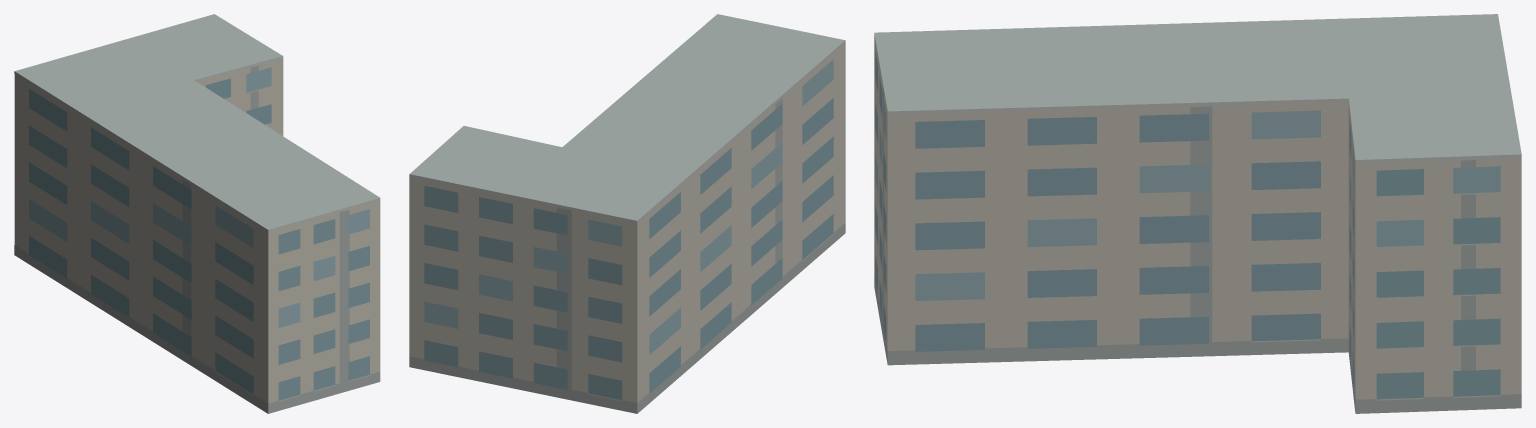
Rendered from residential-43f210d5-421a-40e4-ac34-83a5812caf22.glb.
The picture shows the model from 3 angles, left to right: view 1: azimuth 30°, elevation 25°; view 2: azimuth 150°, elevation 25°; view 3: azimuth 270°, elevation 25°; orthographic projection. The views are drawn at different scales.
Parts seen in each view (by area): view 1: residential-43f210d5-421a-40e4-ac34-83a5812caf22.tmp; view 2: residential-43f210d5-421a-40e4-ac34-83a5812caf22.tmp; view 3: residential-43f210d5-421a-40e4-ac34-83a5812caf22.tmp.
Boxes of the visible parts, x1,y1,x2,y2 form: residential-43f210d5-421a-40e4-ac34-83a5812caf22.tmp: (14,14,380,413); residential-43f210d5-421a-40e4-ac34-83a5812caf22.tmp: (409,14,845,413); residential-43f210d5-421a-40e4-ac34-83a5812caf22.tmp: (874,14,1521,413).
Bounding box in the file's own units: 18.83 × 15.25 × 35.27.
